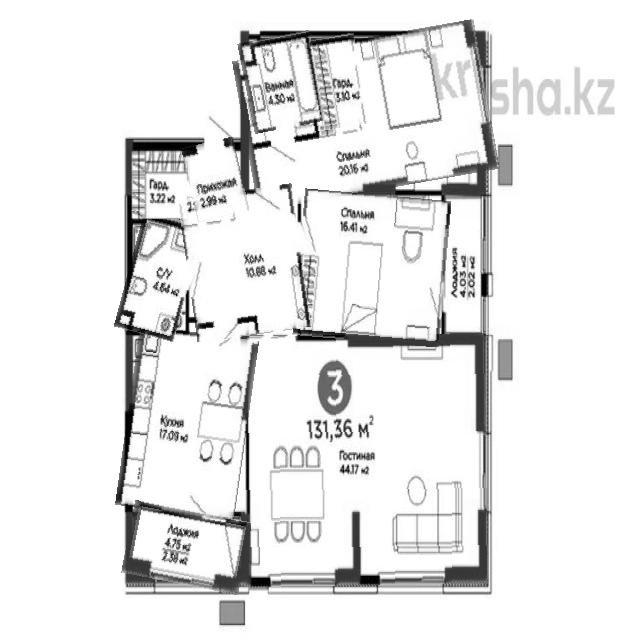balcony: (124, 506, 249, 590), (443, 191, 487, 339)
bathroom: (121, 214, 197, 339), (241, 33, 322, 131)
hallway: (183, 187, 311, 340), (185, 140, 246, 220)
kitchen: (121, 329, 253, 518)
living_room: (243, 334, 487, 586), (247, 20, 499, 211), (295, 191, 448, 344)
other: (313, 34, 364, 130), (132, 150, 190, 219)
